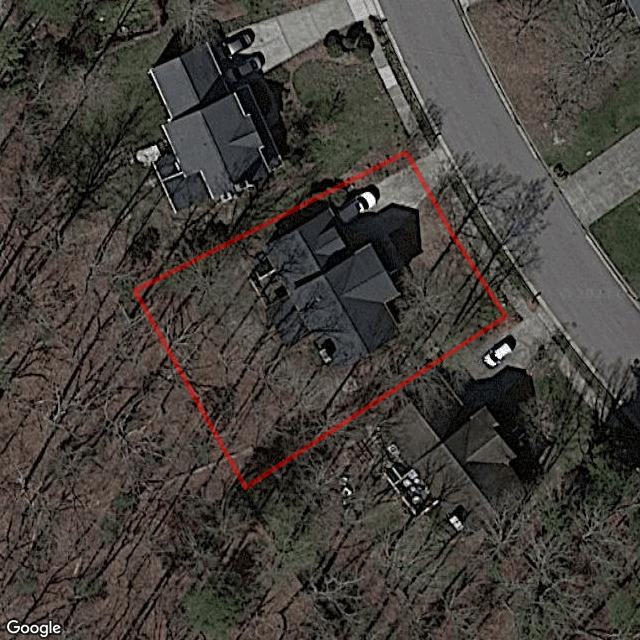Driveway: (338, 162, 430, 285)
Extra Driveway: (416, 143, 452, 189)
Extra Lawn: (431, 186, 517, 315), (407, 147, 422, 162)
Extra Sidewalk: (435, 176, 527, 311), (418, 140, 432, 155)
House: (263, 205, 405, 374)
Other: (249, 269, 307, 349)
